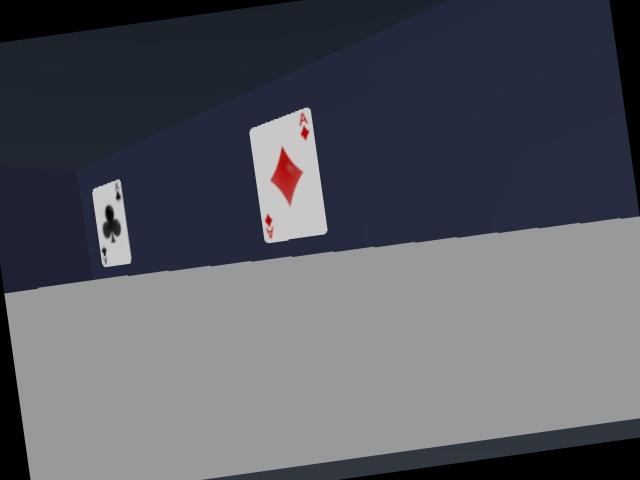club: (92, 180, 131, 266)
diamond: (249, 108, 326, 242)
